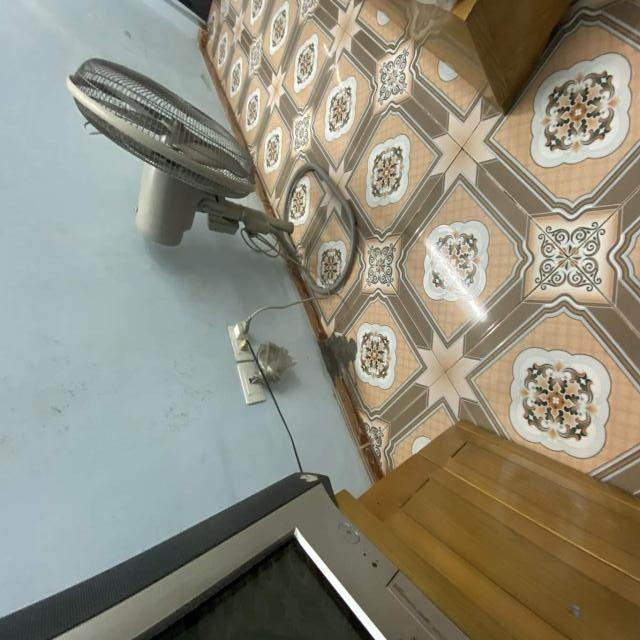outlet: (236, 362, 266, 406), (227, 324, 255, 361)
